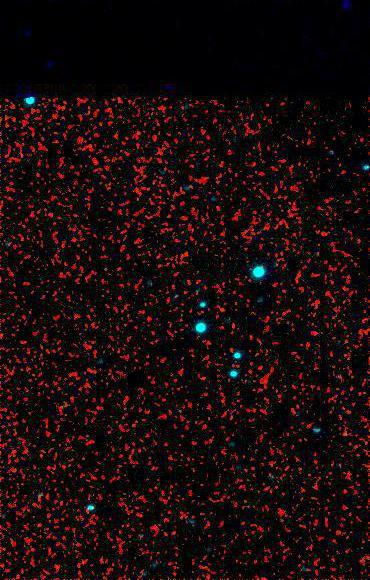star: (206, 299, 236, 329)
